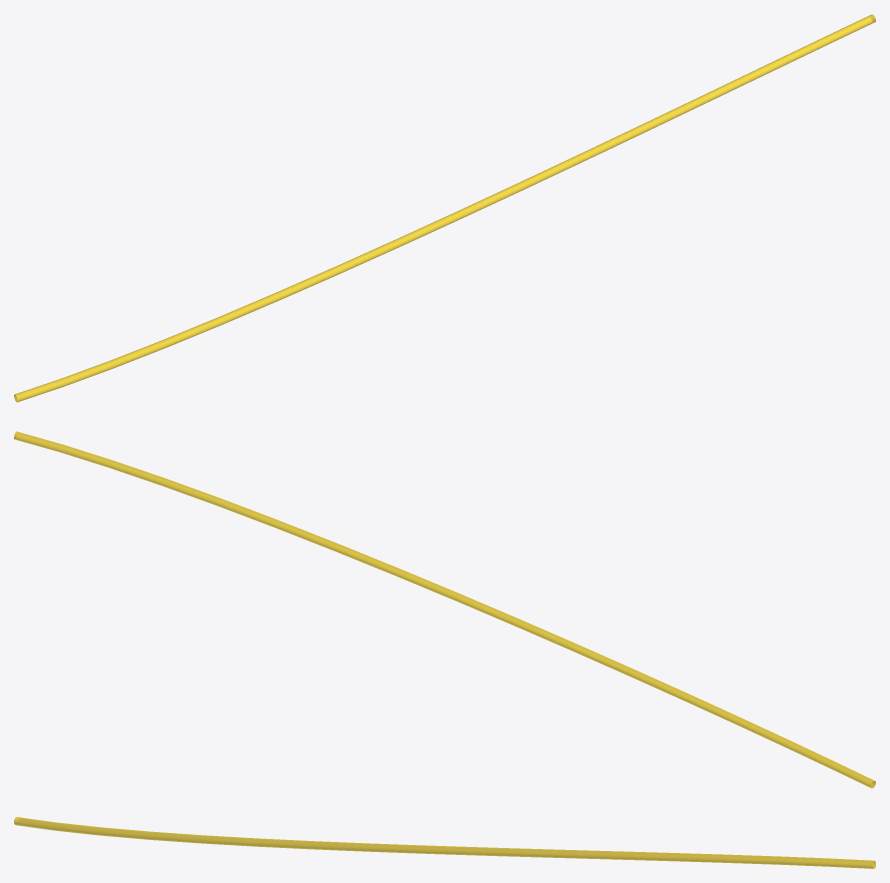
File: Event_75125125_track_87.fbx
3 renders of one model, top to bottom at view 1: azimuth 30°, elevation 25°; view 2: azimuth 150°, elevation 25°; view 3: azimuth 330°, elevation 25°, orthographic. The views are drawn at different scales.
Parts seen in each view (by area): view 1: Model; view 2: Model; view 3: Model.
Boxes of the visible parts, x1,y1,x2,y2 form: Model: (14, 14, 875, 402); Model: (14, 431, 875, 788); Model: (14, 817, 875, 868).
Size of the model in its own units: 4.66 by 0.8434 by 0.2414.
